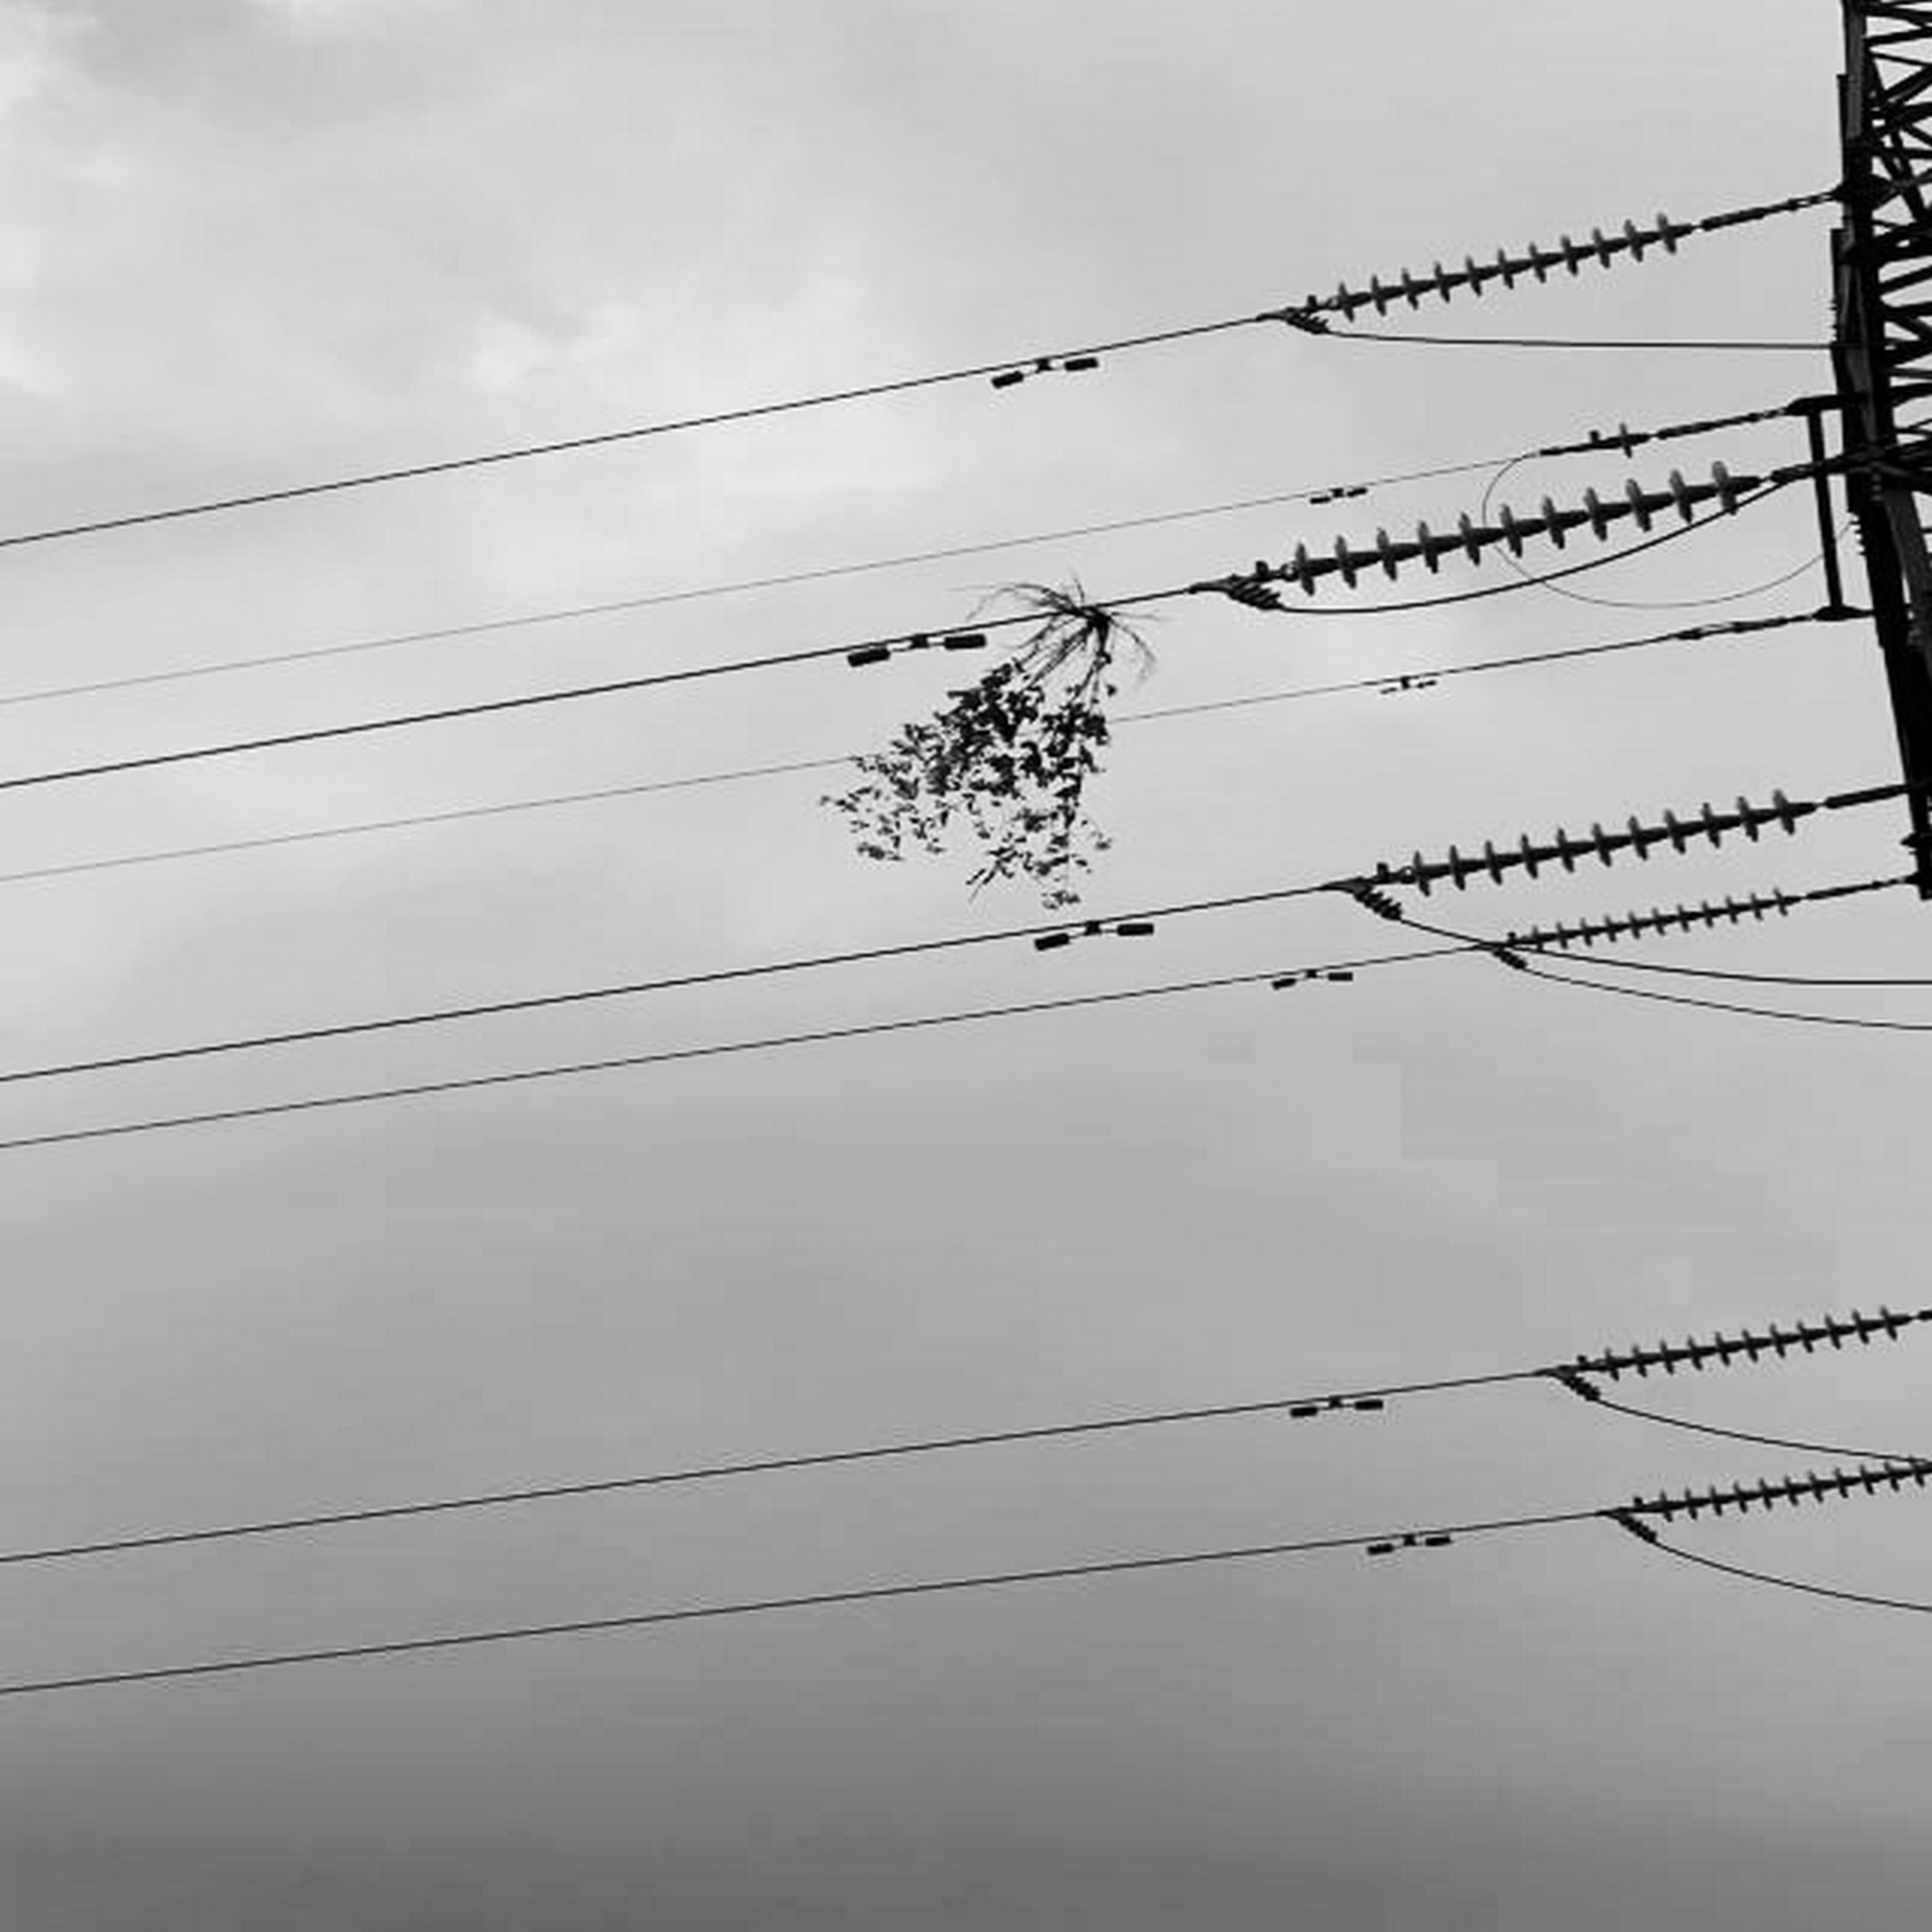wire foreign body: (793, 573, 1169, 931)
